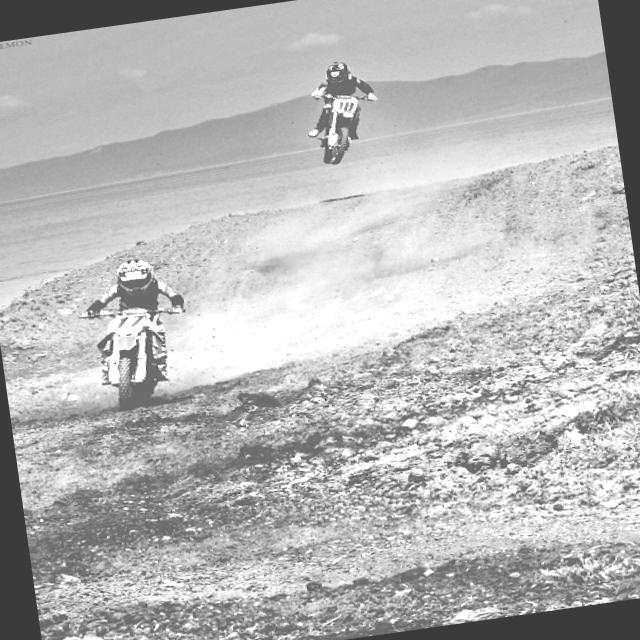Vehicle: (72, 302, 190, 418), (316, 88, 378, 167)
